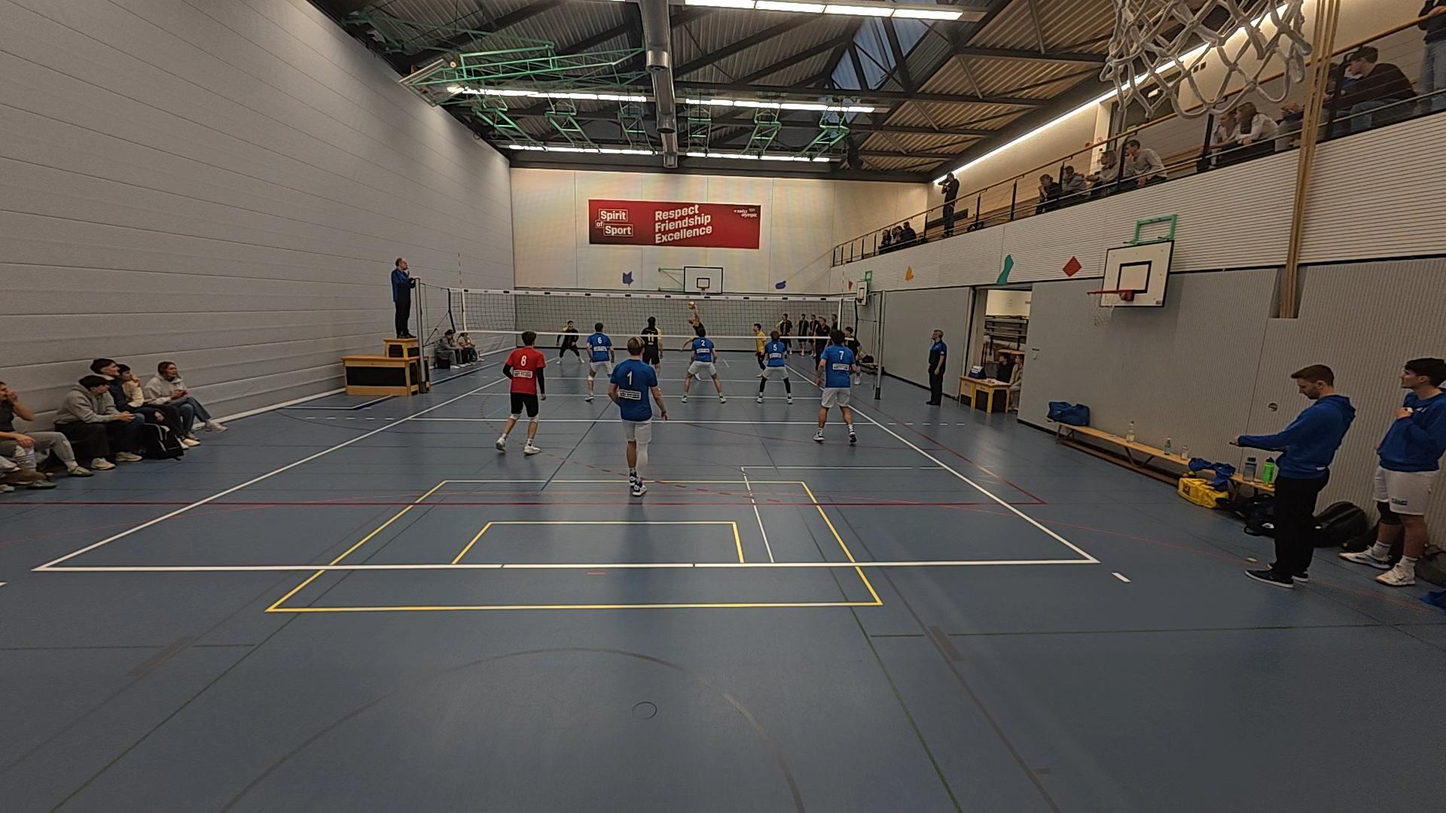Player: (609, 341, 670, 495), (496, 332, 548, 455), (813, 334, 857, 445), (682, 325, 726, 403), (755, 329, 796, 405), (583, 321, 614, 400), (637, 316, 664, 372), (555, 320, 580, 373), (750, 323, 771, 378), (845, 328, 864, 388)
Set: (685, 299, 710, 381)
ball: (901, 264, 917, 281), (687, 300, 701, 312)
